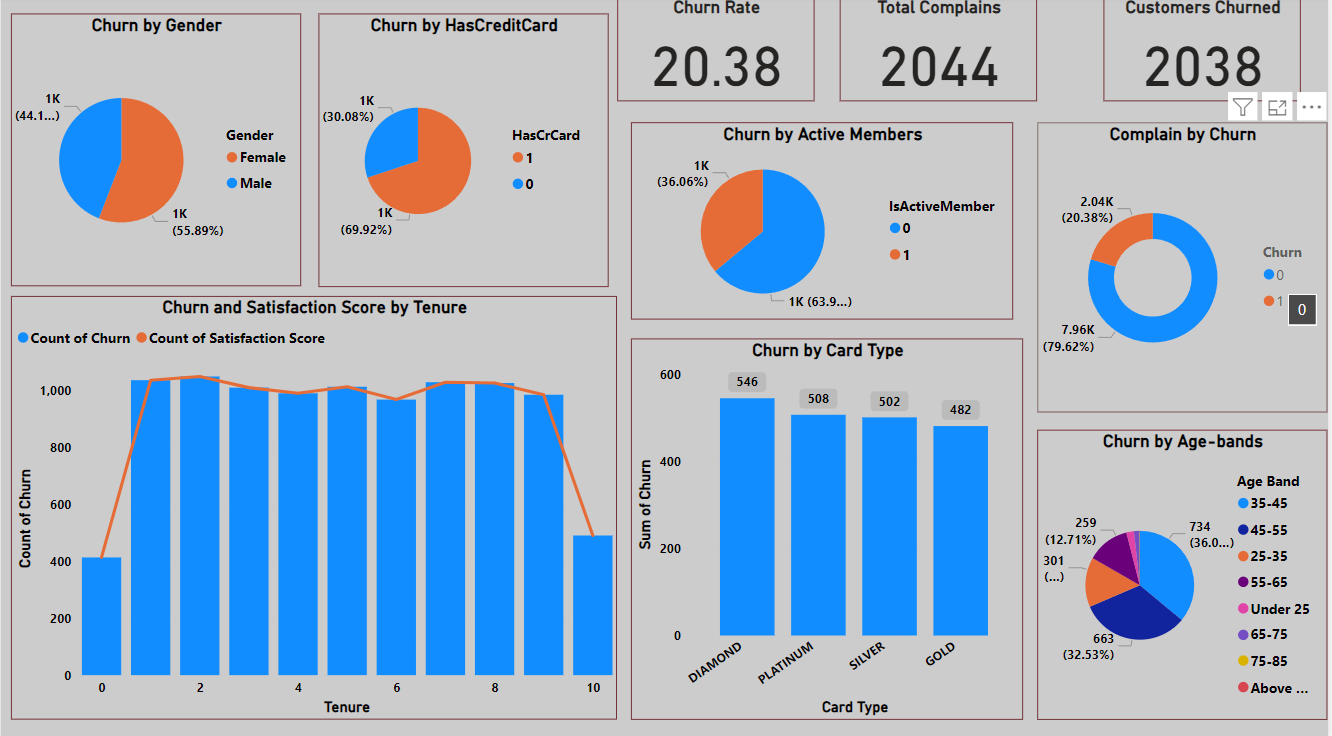

This screenshot's page, from the dashboard's own definition file:
{"tool":"powerbi","page":{"name":"Churner Profile","canvas":[1280,720],"ordinal":2},"visuals":[{"type":"pieChart","title":" Churn by Gender","fields":{"Y":["Sum(dataset.Churn)"],"Category":["dataset.Gender"]},"box":[9.6,16.9,279.8,262.9],"z":0},{"type":"lineClusteredColumnComboChart","title":" Churn and  Satisfaction Score by Tenure","fields":{"Category":["dataset.Tenure"],"Y":["CountNonNull(dataset.Churn)"],"Y2":["CountNonNull(dataset.Satisfaction Score)"]},"box":[9.6,289.4,584.9,408.8],"z":1000},{"type":"clusteredColumnChart","title":"Churn by Card Type","fields":{"Y":["Sum(dataset.Churn)"],"Category":["dataset.Card Type"]},"box":[607.8,330.5,378.7,367.8],"z":2000},{"type":"pieChart","title":" Churn by Age-bands","fields":{"Y":["Sum(dataset.Churn)"],"Category":["dataset.Age Band"]},"box":[999.8,418.5,279.8,279.8],"z":3000},{"type":"pieChart","title":" Churn by HasCreditCard","fields":{"Y":["Sum(dataset.Churn)"],"Category":["dataset.HasCrCard"]},"box":[306.3,16.9,279.8,264.1],"z":4000},{"type":"pieChart","title":" Churn by Active Members","fields":{"Y":["Sum(dataset.Churn)"],"Category":["dataset.IsActiveMember"]},"box":[607.8,121.8,369,190.6],"z":5000},{"type":"card","title":"Churn Rate","fields":{"Values":["dataset.Churn Rate"]},"box":[594.6,0,190.6,101.3],"z":6000},{"type":"card","title":" Customers Churned","fields":{"Values":["dataset.Customer Churned"]},"box":[1063.7,0,190.6,101.3],"z":7000},{"type":"donutChart","title":" Complain by Churn","fields":{"Y":["CountNonNull(dataset.Complain)"],"Category":["dataset.Churn"]},"box":[999.8,121.8,279.8,279.8],"z":8000},{"type":"card","title":"Total Complains","fields":{"Values":["Sum(dataset.Complain)"]},"box":[809.2,0,190.6,101.3],"z":9000}]}

Visuals, with their boxes in screenshot pixels (x1, y1, x2, y2), scaled from the page's 1280x720 canvas onto the 1332x736 screenshot:
" Churn by Gender" pieChart: (10, 17, 301, 286)
" Churn and  Satisfaction Score by Tenure" lineClusteredColumnComboChart: (10, 296, 619, 714)
"Churn by Card Type" clusteredColumnChart: (632, 338, 1027, 714)
" Churn by Age-bands" pieChart: (1040, 428, 1331, 714)
" Churn by HasCreditCard" pieChart: (319, 17, 610, 287)
" Churn by Active Members" pieChart: (632, 125, 1016, 319)
"Churn Rate" card: (619, 0, 817, 104)
" Customers Churned" card: (1107, 0, 1305, 104)
" Complain by Churn" donutChart: (1040, 125, 1331, 411)
"Total Complains" card: (842, 0, 1040, 104)
